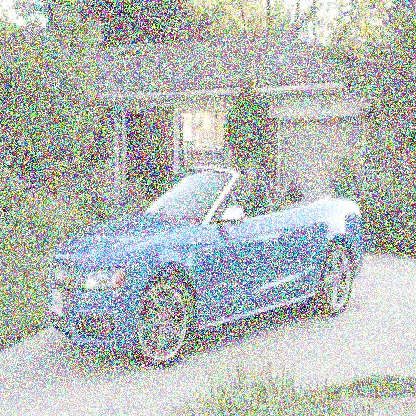Vehicle: (51, 164, 364, 370)
